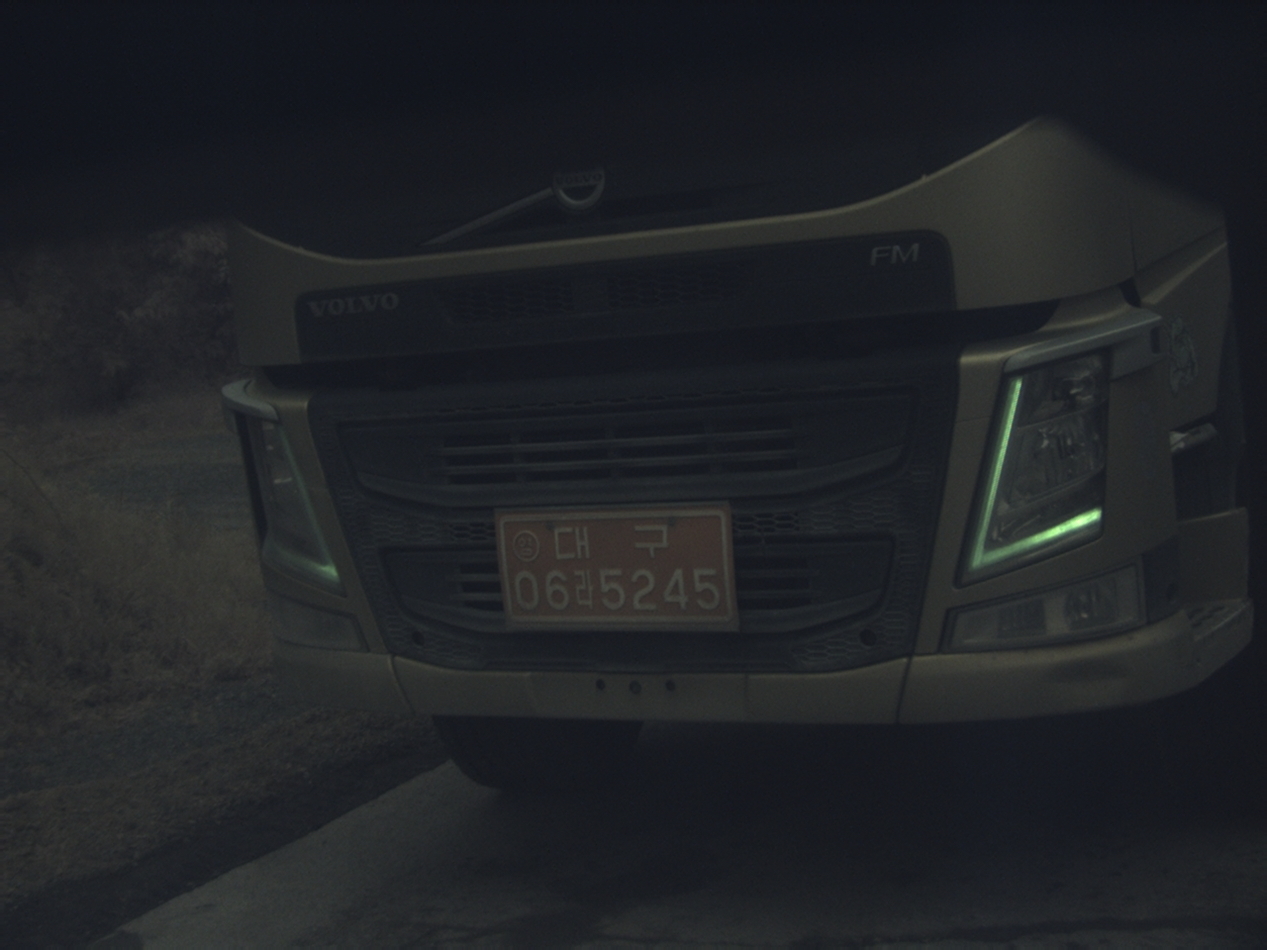license_plate: (497, 505, 737, 631)
truck: (225, 119, 1250, 787)
